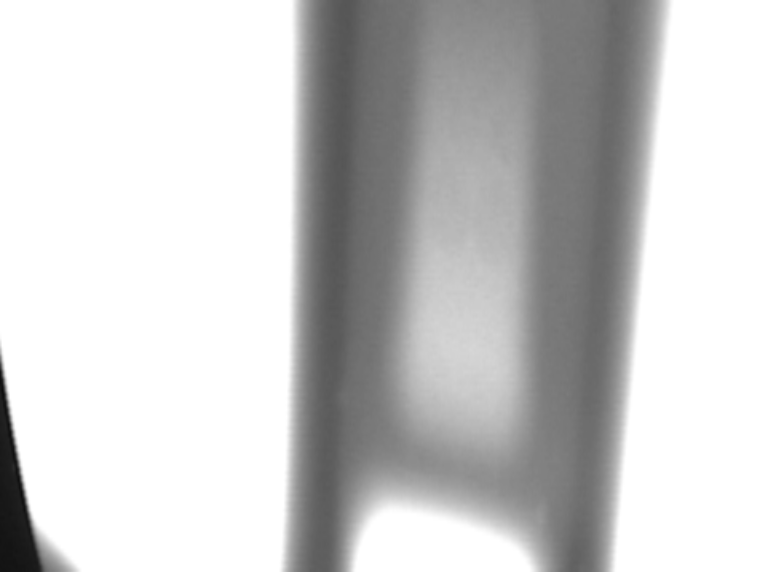defect: (337, 385, 359, 445)
